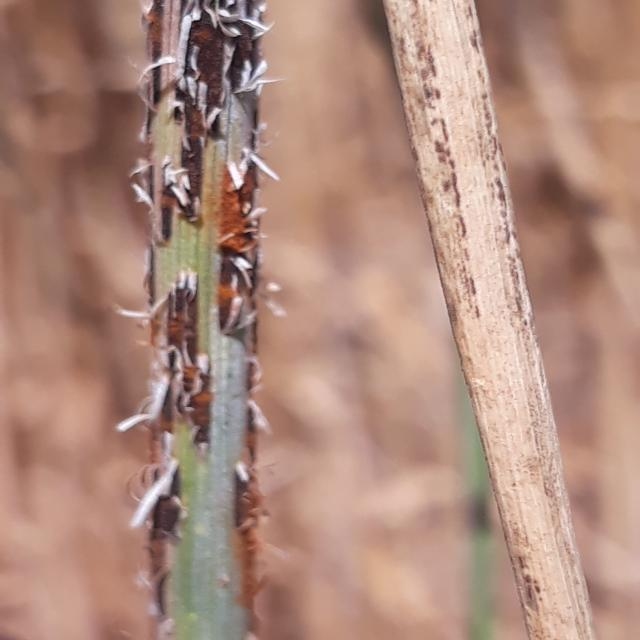black_stem_rust: (368, 0, 606, 640), (95, 0, 312, 640)
